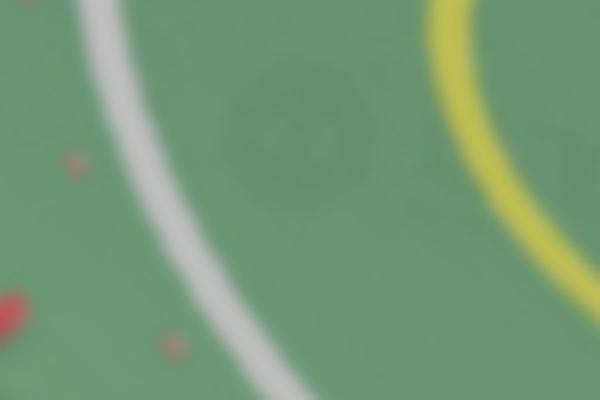Apron: (421, 1, 600, 323)
